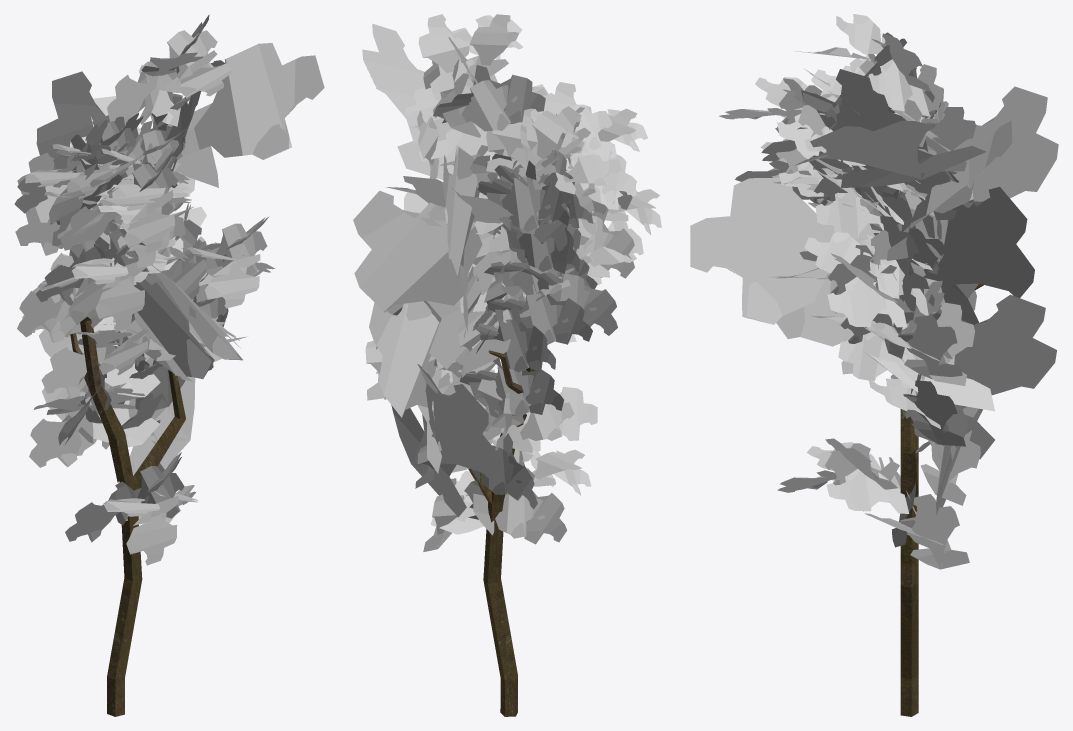
The model's file is Tree2.obj.
3 renders of one model, left to right at view 1: azimuth 30°, elevation 25°; view 2: azimuth 150°, elevation 25°; view 3: azimuth 270°, elevation 25°, orthographic. The views are drawn at different scales.
Parts seen in each view (by area): view 1: Tree_Branch.002_Tree_Branch, Cylinder.001; view 2: Tree_Branch.002_Tree_Branch, Cylinder.001; view 3: Tree_Branch.002_Tree_Branch, Cylinder.001.
Boxes of the visible parts, bbox=[...] form: Tree_Branch.002_Tree_Branch: bbox=[14, 14, 324, 565]; Cylinder.001: bbox=[70, 317, 185, 716]; Tree_Branch.002_Tree_Branch: bbox=[353, 14, 661, 551]; Cylinder.001: bbox=[468, 218, 535, 716]; Tree_Branch.002_Tree_Branch: bbox=[690, 14, 1058, 569]; Cylinder.001: bbox=[900, 283, 983, 716].
Bounding box in the file's own units: 7.71 × 18.34 × 8.49.
